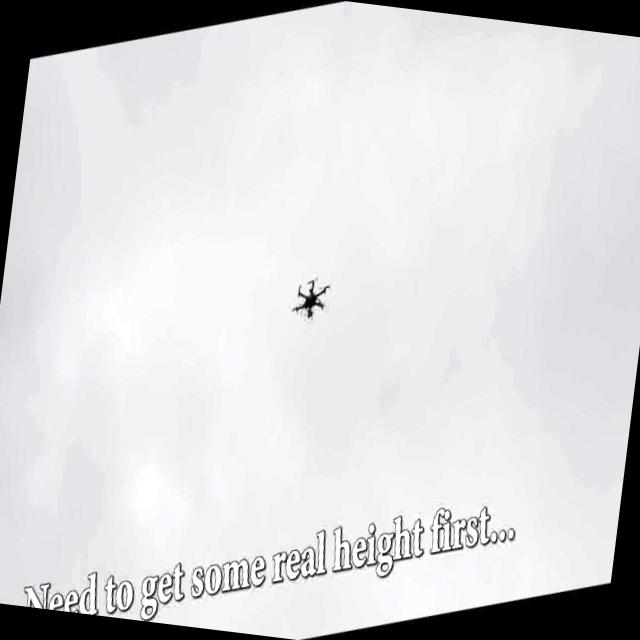drone: (283, 265, 336, 332)
